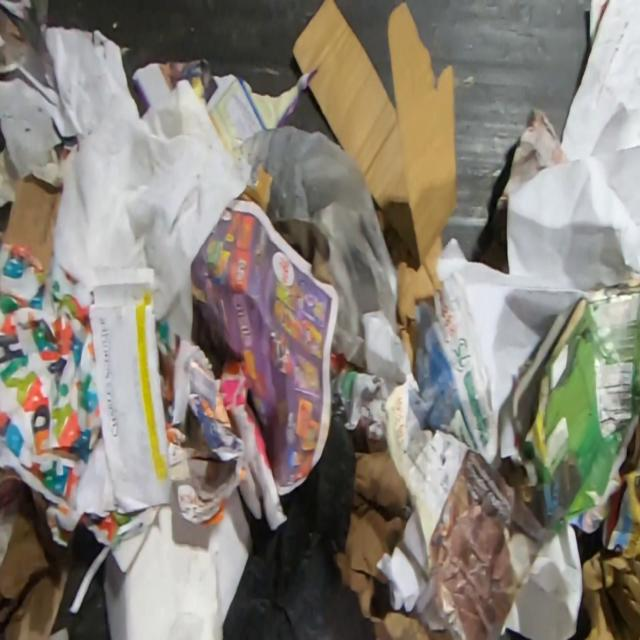cardboard: (289, 0, 459, 372), (521, 276, 640, 536), (331, 429, 452, 640), (0, 24, 127, 176), (0, 467, 78, 640), (0, 169, 64, 279), (581, 548, 640, 640), (273, 220, 334, 285), (236, 169, 270, 210)
soft_plastic: (30, 76, 250, 344), (231, 122, 400, 371)
